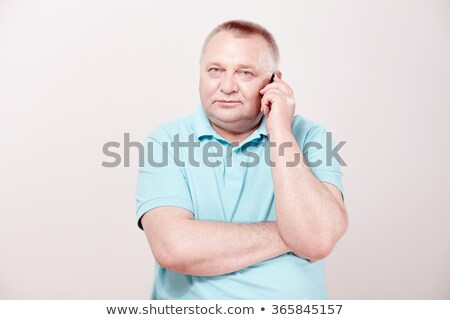phone: (261, 72, 287, 112)
talk: (191, 56, 297, 136)
